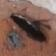cockroach: (10, 13, 46, 42)
